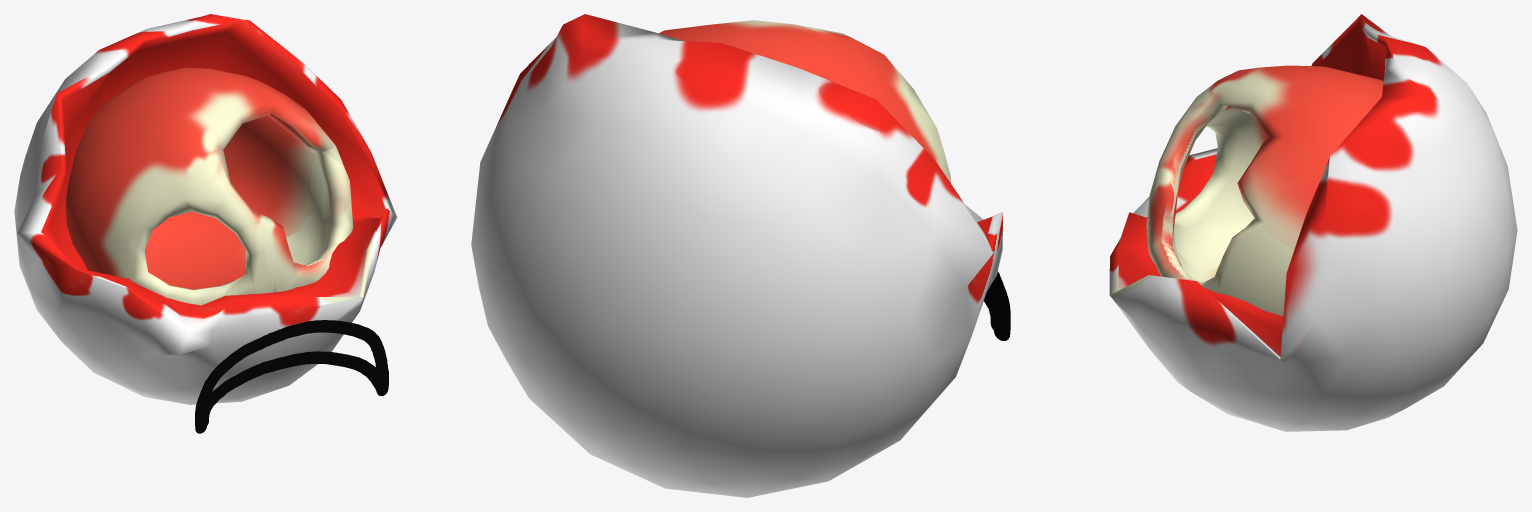
The model's file is blown off head.fbx.
3 views of the same model, side by side, from view 1: azimuth 30°, elevation 25°; view 2: azimuth 150°, elevation 25°; view 3: azimuth 270°, elevation 25° (orthographic). The views are drawn at different scales.
Parts seen in each view (by area): view 1: exploded head, skull, mouthplane; view 2: exploded head, skull, mouthplane; view 3: exploded head, skull.
Part boxes in pixels (left/top/right/bottom): exploded head: left=14, top=14, right=397, bottom=404; skull: left=66, top=67, right=353, bottom=305; mouthplane: left=195, top=320, right=388, bottom=433; exploded head: left=471, top=14, right=1002, bottom=497; skull: left=659, top=20, right=951, bottom=183; mouthplane: left=984, top=271, right=1010, bottom=340; exploded head: left=1109, top=14, right=1517, bottom=431; skull: left=1146, top=65, right=1383, bottom=316.
Size of the model in its own units: 29.44 by 26.05 by 26.3.
